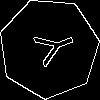Y: (24, 23, 78, 72)
